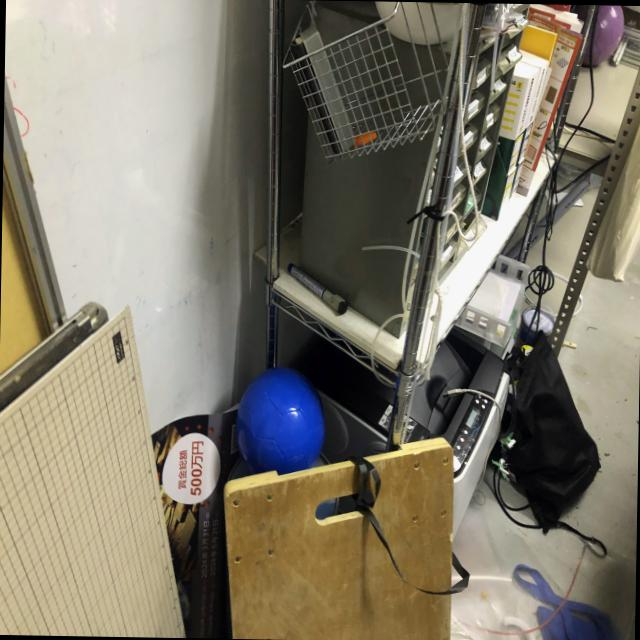blue_ball: (245, 372, 322, 475)
